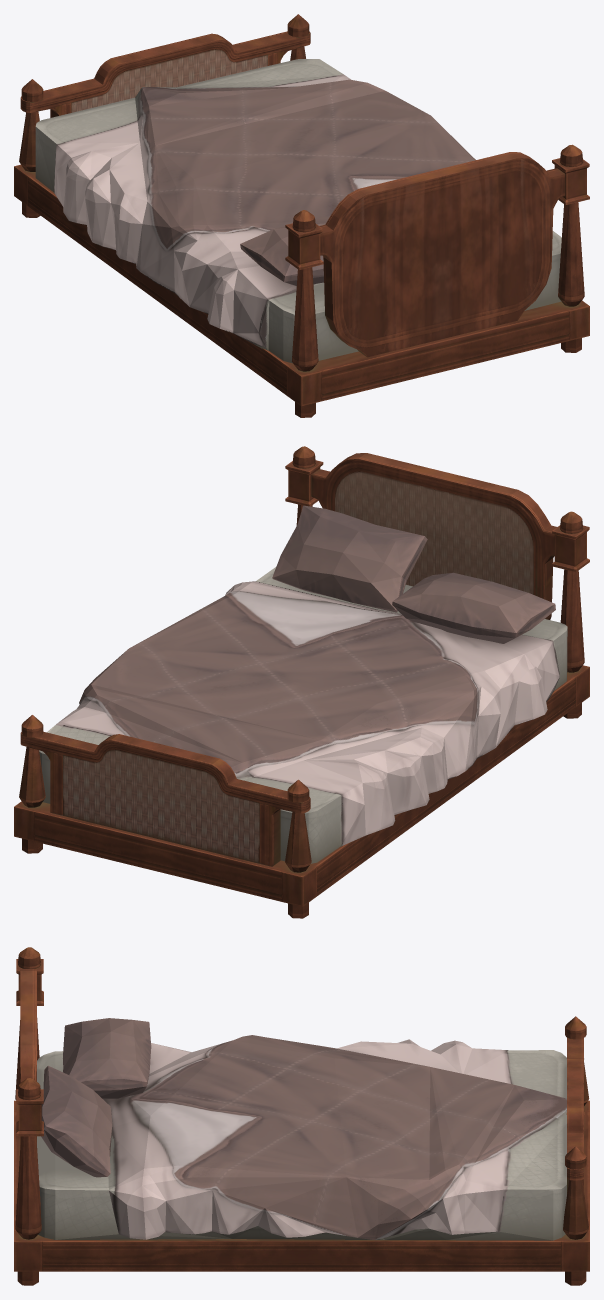
Rendered from P_DoubleBed_002_S1_M01.obj.
The picture shows the model from 3 angles, top to bottom: view 1: azimuth 30°, elevation 25°; view 2: azimuth 150°, elevation 25°; view 3: azimuth 270°, elevation 25°; orthographic projection.
Size of the model in its own units: 2.01 by 1.2 by 2.99.
Materials: 3 (3 with a texture image).
